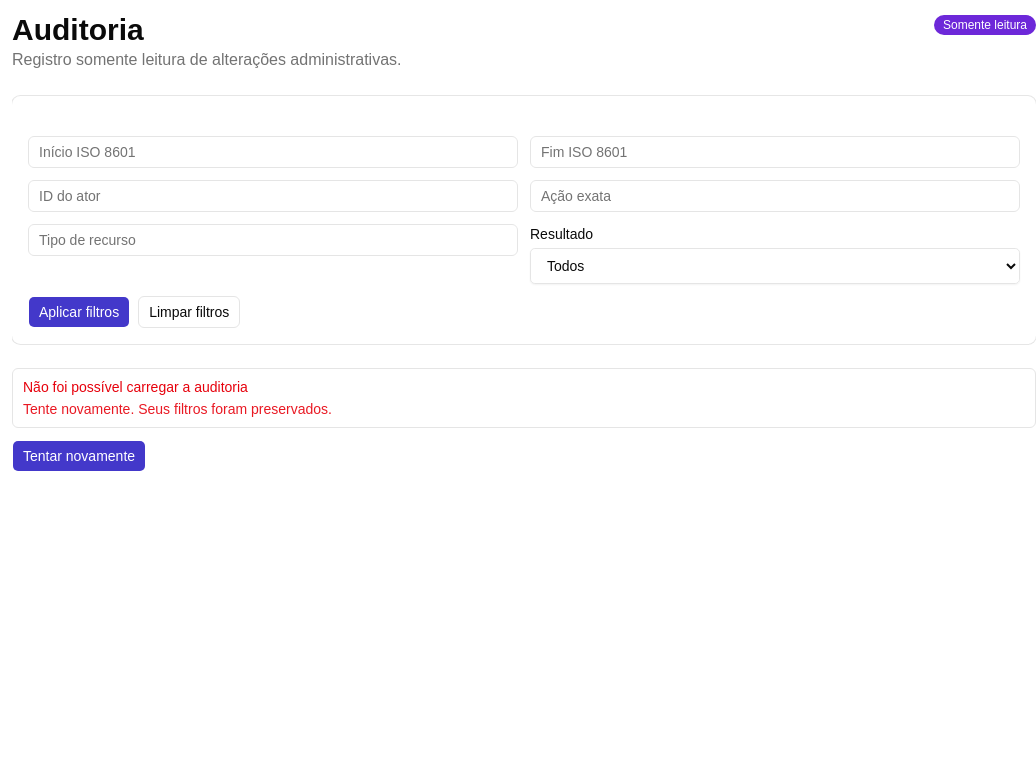
Test: AuditPage › mostra erro recuperável sem renderizar o erro bruto e permite tentar novamente
Check: the text "Não foi possível carregar a auditoria" is shown, box [23,379,248,395]
Click the button "Tentar novamente": (79, 456) [12,440,146,472]
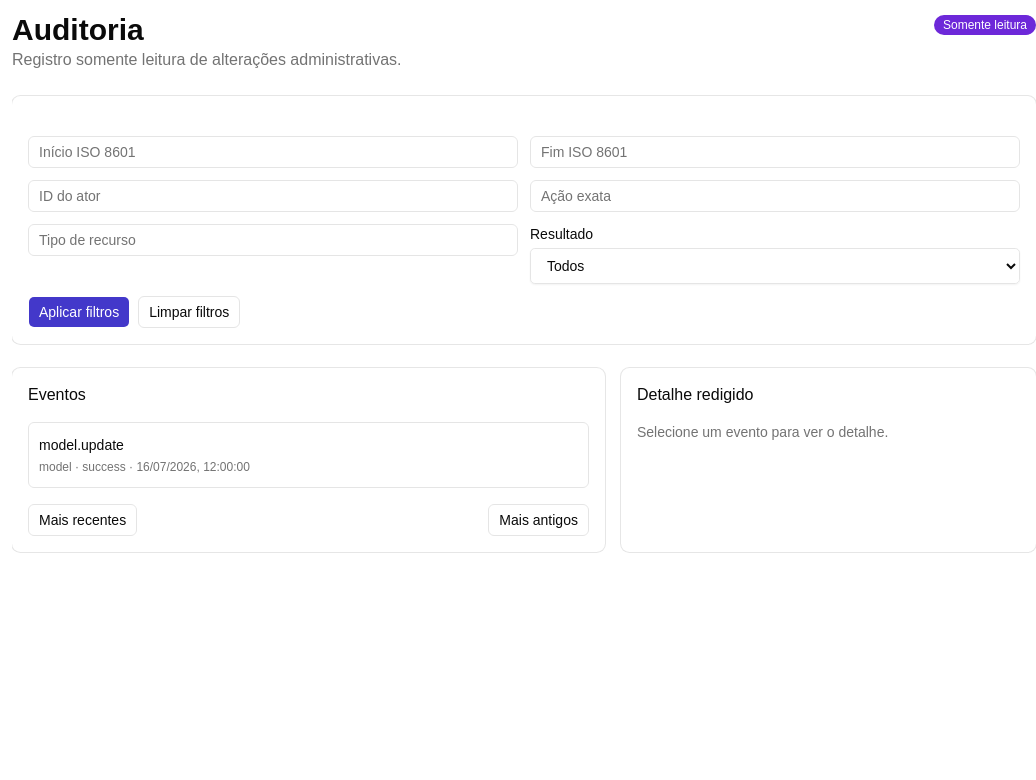
Check: the text "model.update" is shown, box [39,437,124,453]
